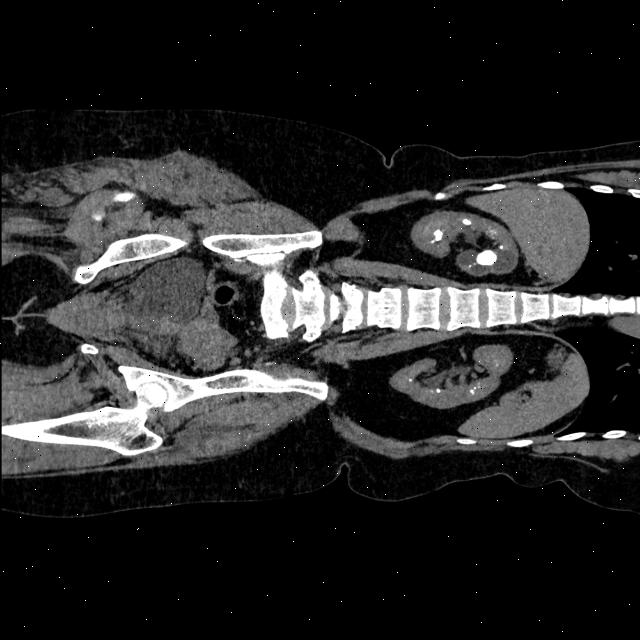kidneystone: (475, 250, 496, 266), (434, 389, 441, 398), (462, 219, 470, 225), (434, 235, 441, 241), (468, 389, 476, 392), (408, 378, 415, 381), (499, 246, 503, 249)
